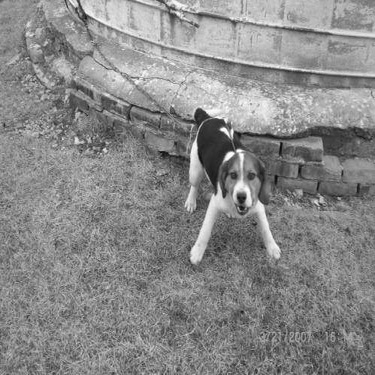dog: (163, 93, 289, 279)
